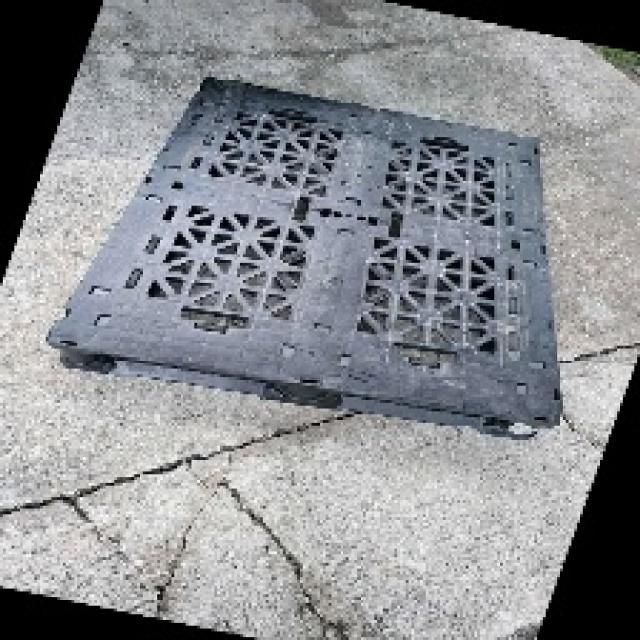igps: (41, 69, 572, 449)
